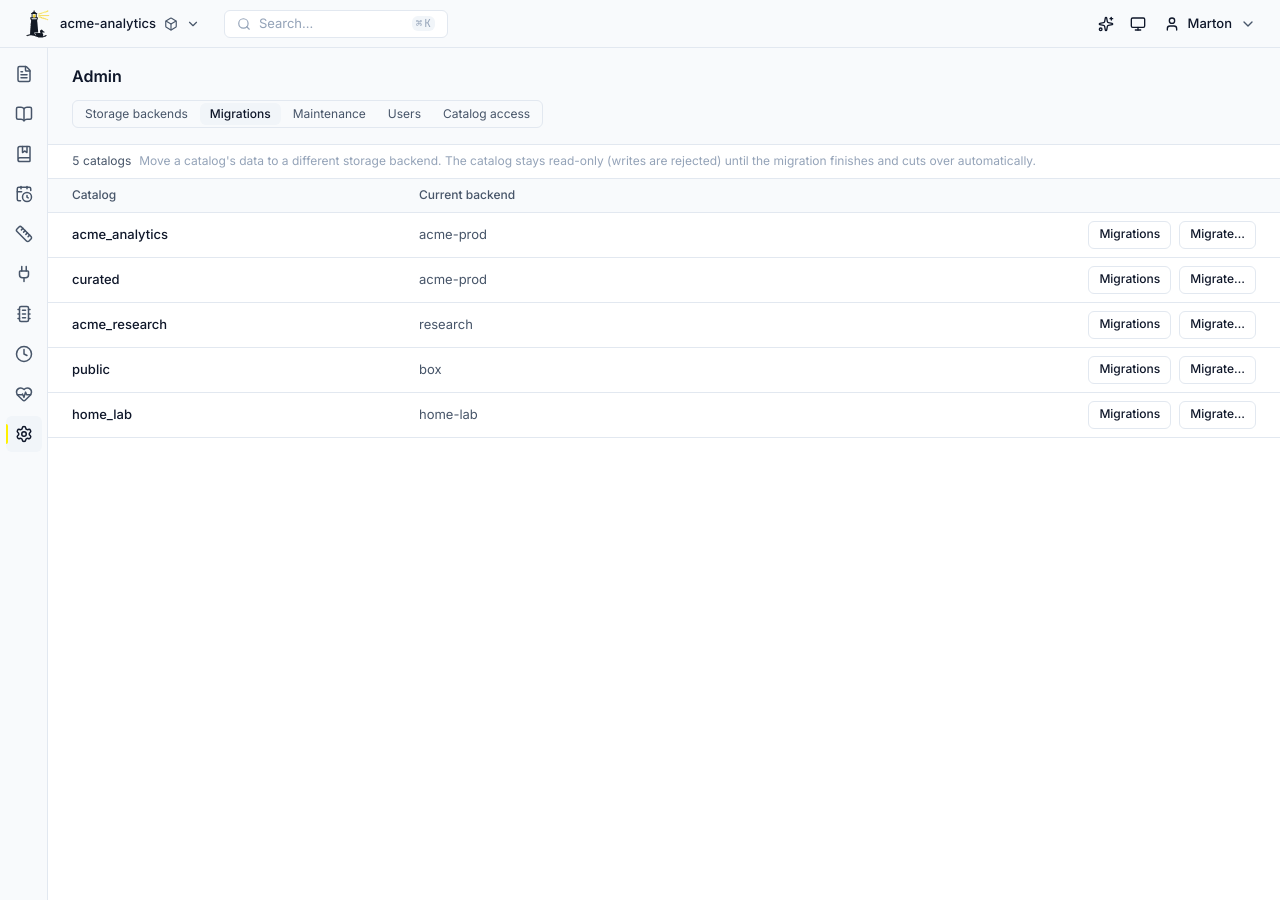
Test: CatalogMigrationsPage › renders progress and streamed log lines for an active migration
Step 1. Click the button "Migrations" in the row of "acme_analytics" → (1130, 235), box [1088,221,1171,249]
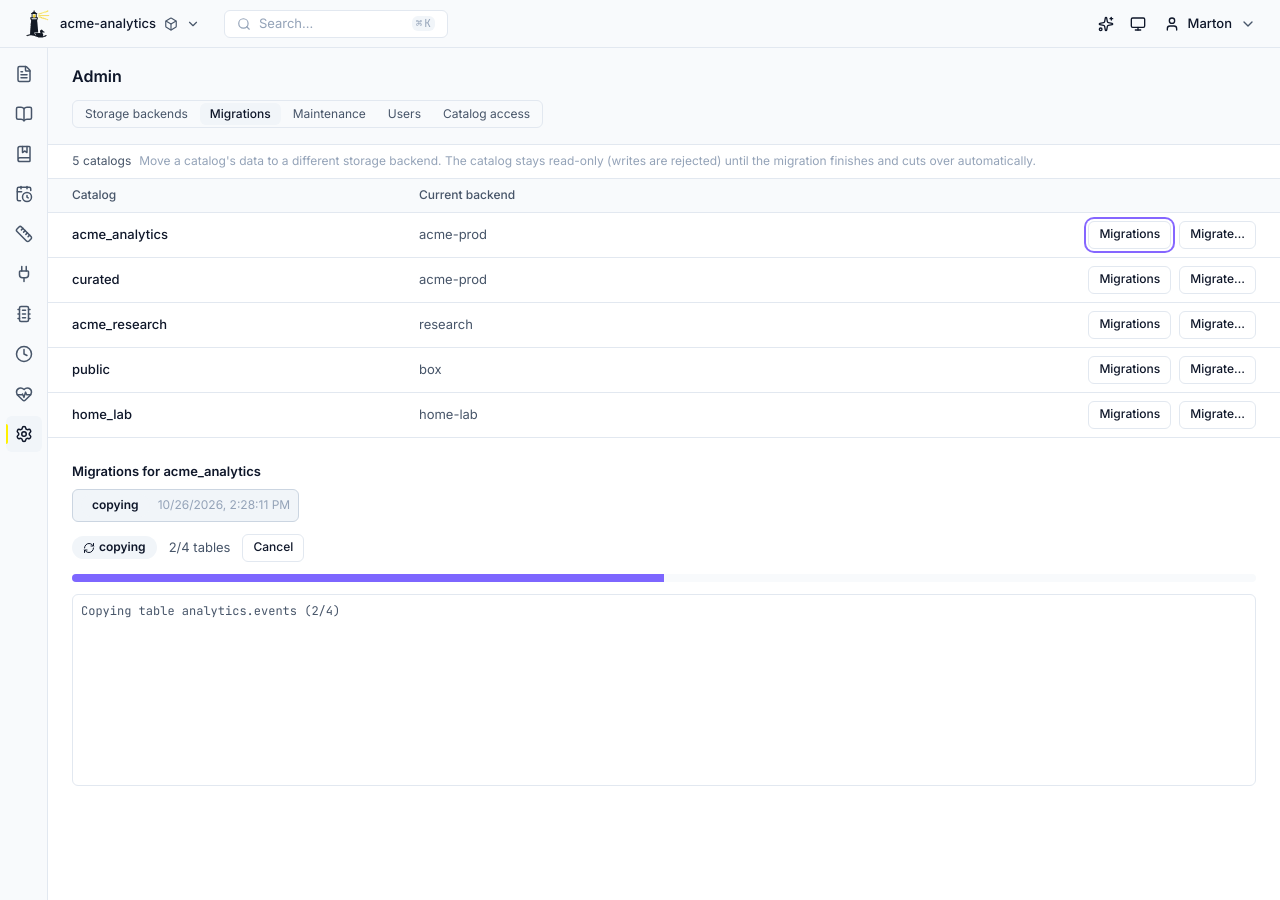
Now the text "2/4 tables" is shown, box [169,538,230,558]
Now the text "Copying table analytics.events (2/4)" is shown, box [81,603,340,619]
